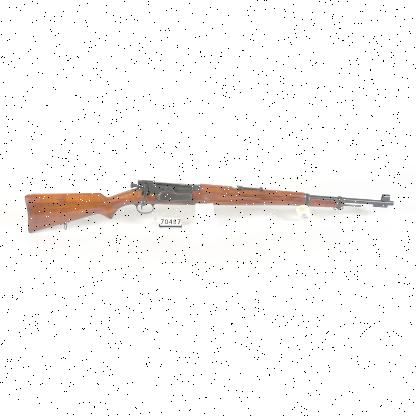gun: (26, 178, 392, 230)
